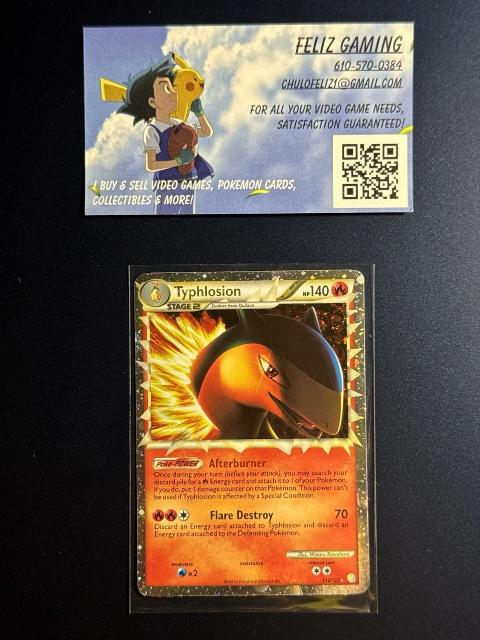Card: (131, 265, 373, 599)
Name: (171, 283, 245, 301)
